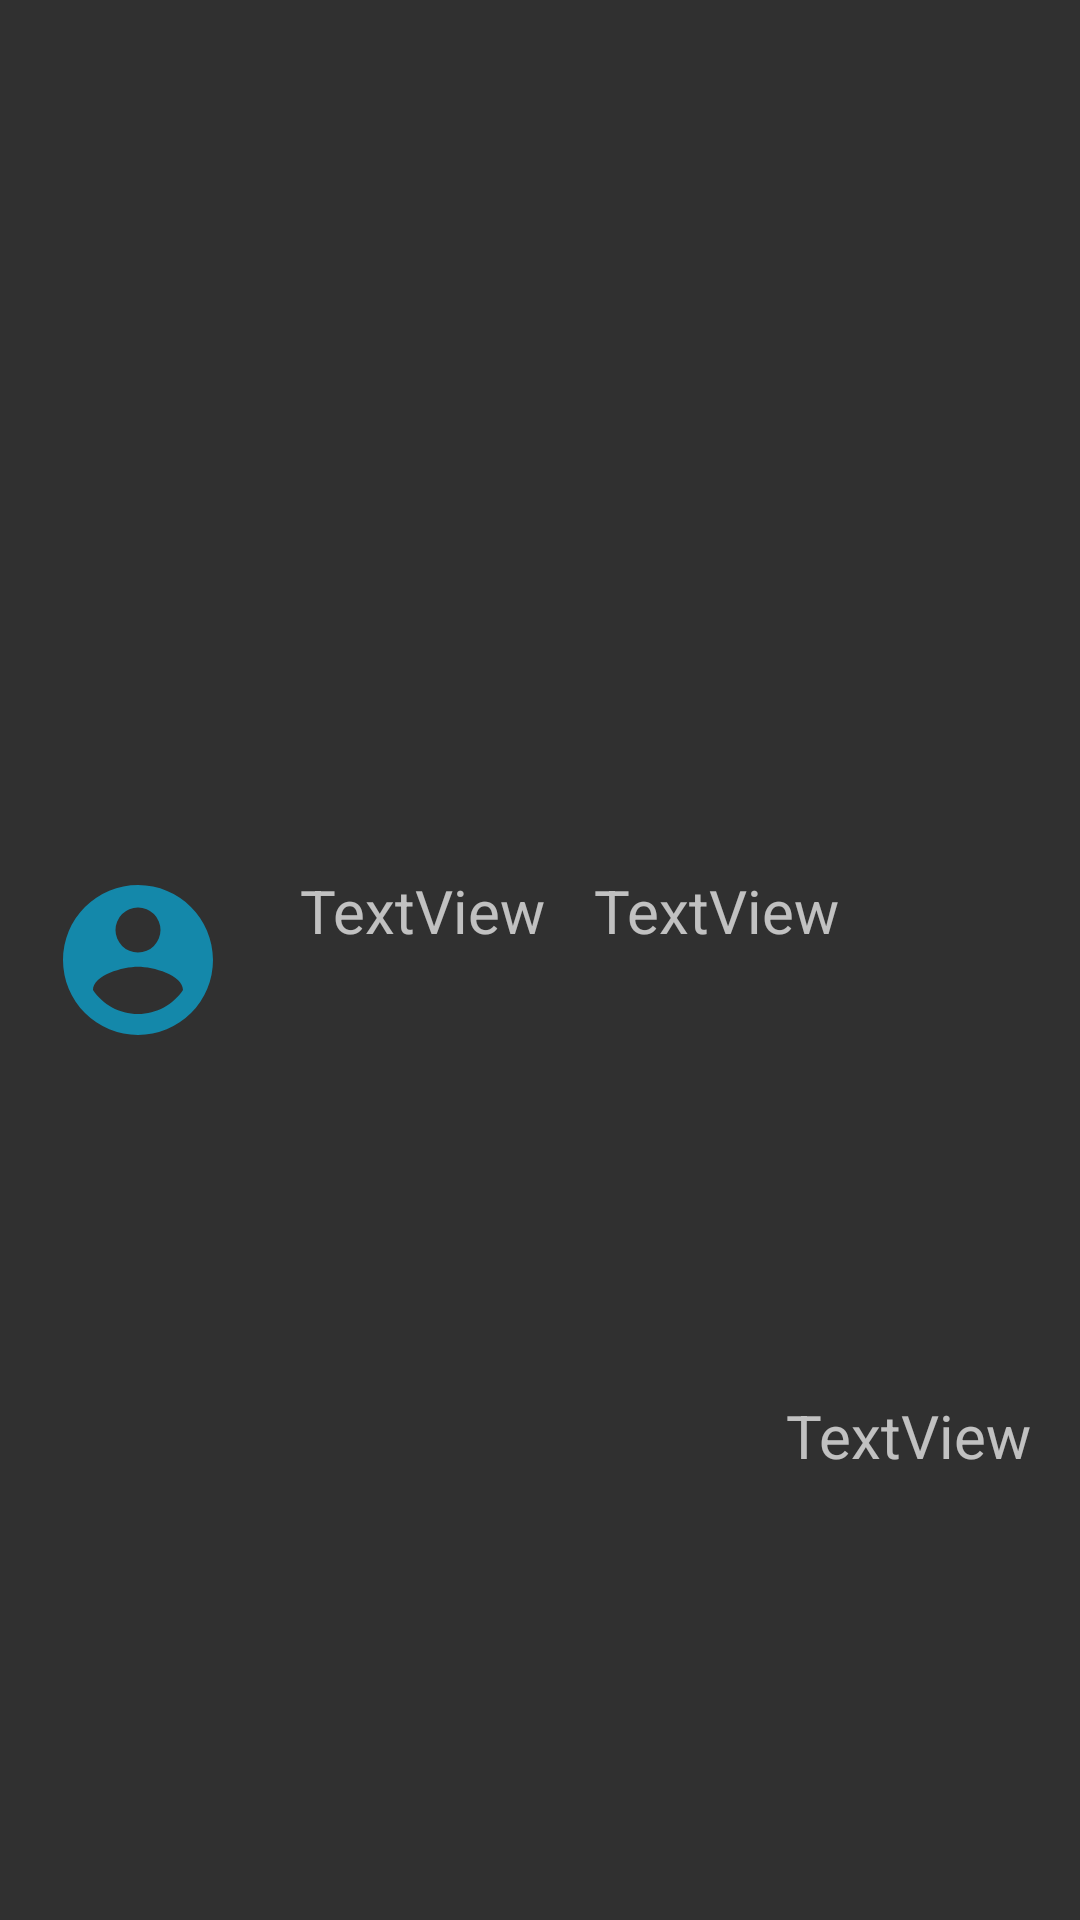

Icons on this 1080x1920 Android screen, each with the point to tap as (x=x, y=y):
account circle: (x=138, y=960)
